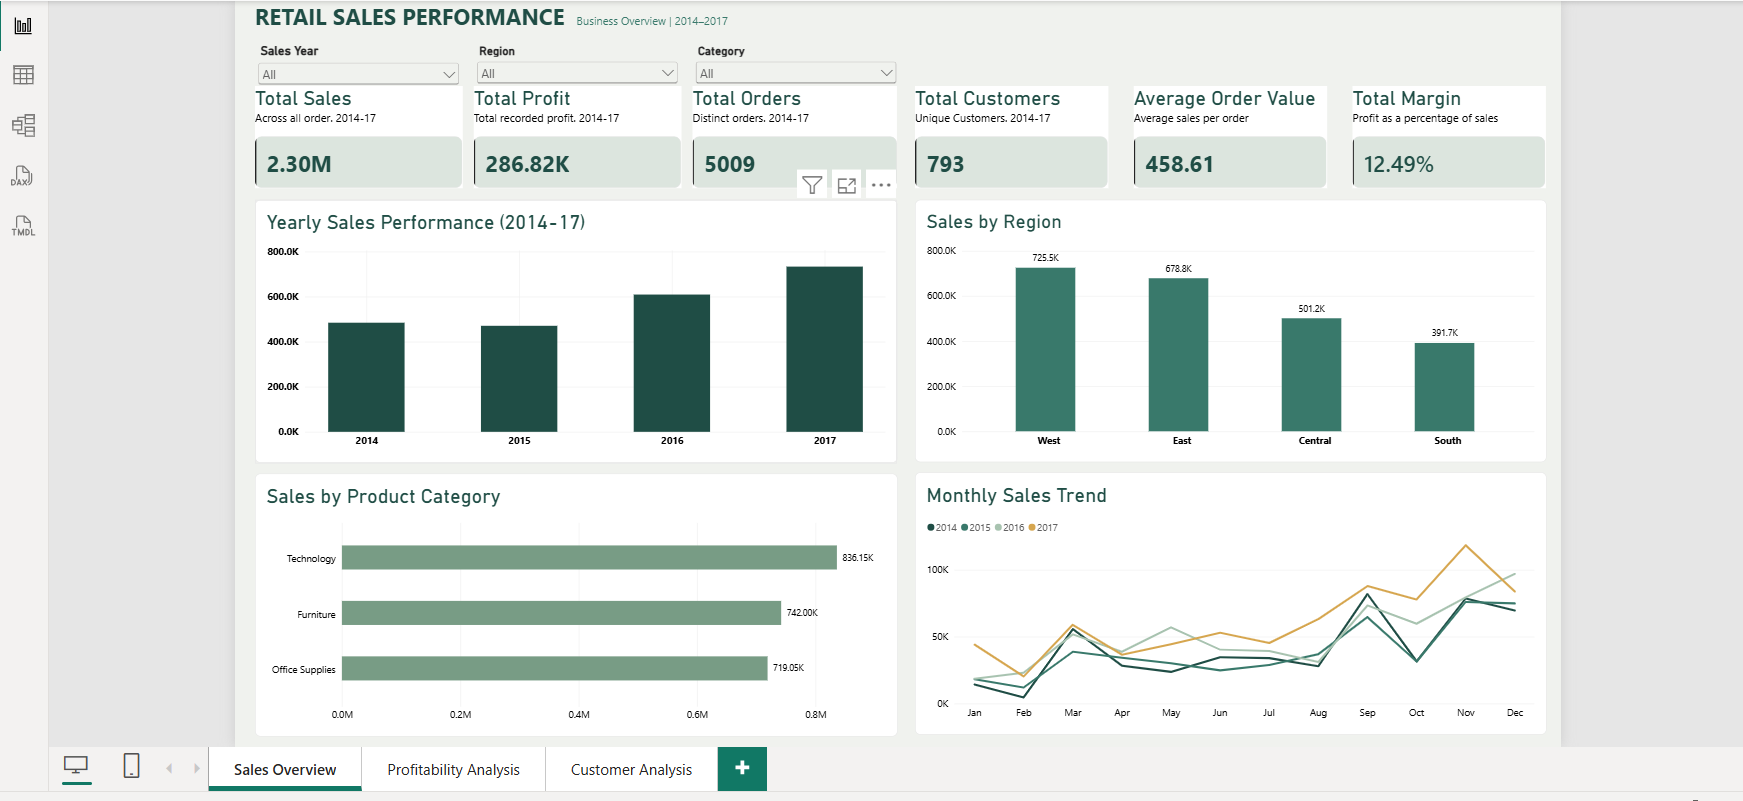

The page's visual inventory and layout, read from the dashboard file:
{"tool":"powerbi","page":{"name":"Sales Overview","canvas":[1920,1080],"ordinal":0},"visuals":[{"type":"cardVisual","title":"Total Sales","fields":{"Data":["Superstore.Total Sales"]},"box":[28.8,123.5,300.5,148.2],"z":0},{"type":"cardVisual","title":"Total Profit","fields":{"Data":["Superstore.Total Profit"]},"box":[345.8,123.5,300.5,148.2],"z":1},{"type":"cardVisual","title":"Total Orders","fields":{"Data":["Superstore.Total Orders"]},"box":[662.8,123.5,296.4,148.2],"z":2},{"type":"cardVisual","title":"Total Customers","fields":{"Data":["Superstore.Total Customers"]},"box":[983.9,123.5,279.9,148.2],"z":3},{"type":"cardVisual","title":"Average Order Value","fields":{"Data":["Superstore.Average Order Value"]},"box":[1300.9,123.5,279.9,148.2],"z":4},{"type":"cardVisual","title":"Total Margin","fields":{"Data":["Superstore.Total Margin"]},"box":[1617.8,123.5,279.9,148.2],"z":5},{"type":"clusteredColumnChart","title":"Yearly Sales Performance (2014-17)","fields":{"Category":["Superstore.Sales Year"],"Y":["Superstore.Total Sales"]},"box":[28.8,288.2,930.4,380.8],"z":6},{"type":"clusteredColumnChart","title":"Sales by Region","fields":{"Category":["vw_Regional_Performance.Region"],"Y":["Sum(vw_Regional_Performance.Total_Sales)"]},"box":[983.9,288.2,914,380],"z":7},{"type":"clusteredBarChart","title":"Sales by Product Category","fields":{"Category":["vw_Category_Performance.Category"],"Y":["Superstore.Total Sales"]},"box":[28.8,683.4,930.4,380.8],"z":8},{"type":"lineChart","title":"Monthly Sales Trend","fields":{"Category":["Superstore.Month Name"],"Series":["Superstore.Sales Year"],"Y":["Superstore.Total Sales"]},"box":[984,683,914,380],"z":9},{"type":"textbox","box":[28.8,0,773.9,61.7],"z":10},{"type":"slicer","fields":{"Values":["Superstore.Sales Year"]},"box":[28.8,61.7,300.5,61.7],"z":11},{"type":"slicer","fields":{"Values":["vw_Regional_Performance.Region"]},"box":[345.8,61.7,300.5,61.7],"z":12},{"type":"slicer","fields":{"Values":["vw_Category_Performance.Category"]},"box":[662.8,61.7,300.5,61.7],"z":13}]}

Visuals, with their boxes on the page's 1920x1080 design canvas (x1, y1, x2, y2). These are canvas units, not pixel positions in the 1743x801 screenshot, which may show the page scaled, cropped or inside an application window:
"Total Sales" cardVisual: <bbox>29, 124, 329, 272</bbox>
"Total Profit" cardVisual: <bbox>346, 124, 646, 272</bbox>
"Total Orders" cardVisual: <bbox>663, 124, 959, 272</bbox>
"Total Customers" cardVisual: <bbox>984, 124, 1264, 272</bbox>
"Average Order Value" cardVisual: <bbox>1301, 124, 1581, 272</bbox>
"Total Margin" cardVisual: <bbox>1618, 124, 1898, 272</bbox>
"Yearly Sales Performance (2014-17)" clusteredColumnChart: <bbox>29, 288, 959, 669</bbox>
"Sales by Region" clusteredColumnChart: <bbox>984, 288, 1898, 668</bbox>
"Sales by Product Category" clusteredBarChart: <bbox>29, 683, 959, 1064</bbox>
"Monthly Sales Trend" lineChart: <bbox>984, 683, 1898, 1063</bbox>
textbox: <bbox>29, 0, 803, 62</bbox>
slicer - Superstore.Sales Year: <bbox>29, 62, 329, 123</bbox>
slicer - vw_Regional_Performance.Region: <bbox>346, 62, 646, 123</bbox>
slicer - vw_Category_Performance.Category: <bbox>663, 62, 963, 123</bbox>
